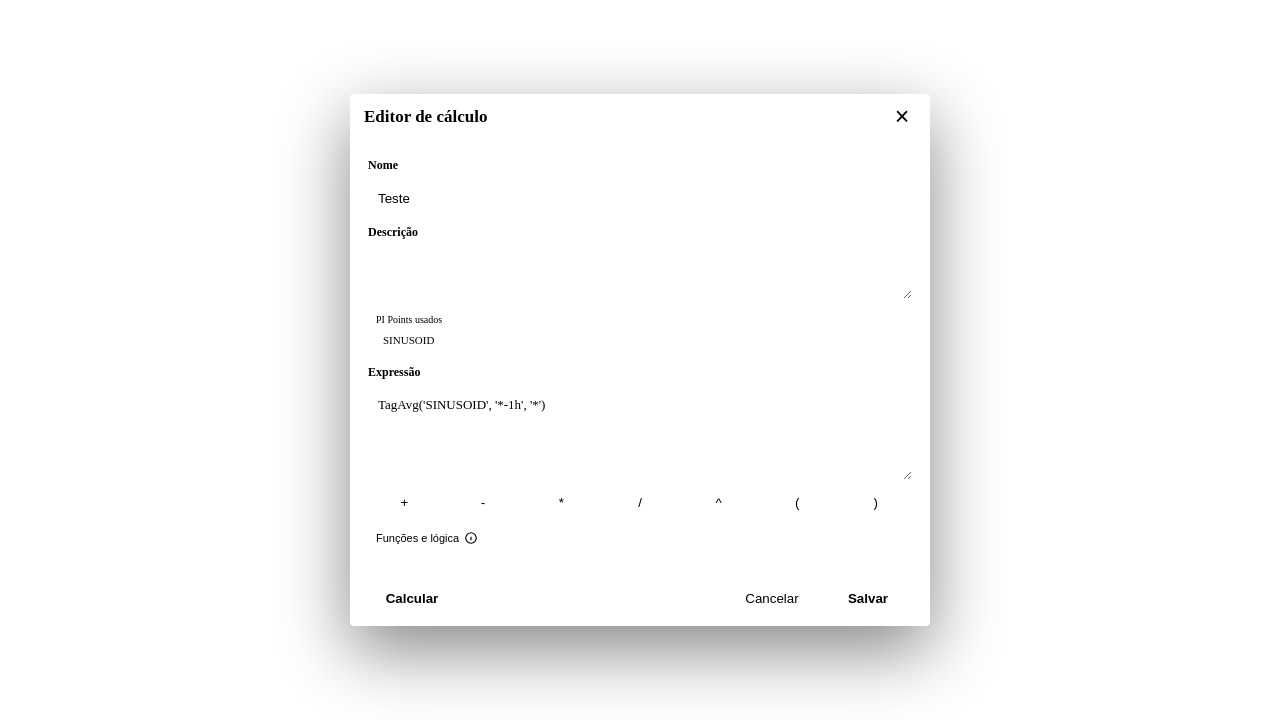
Scenario: calcula uma expressão PI no controller com um clique, sem carregar valores locais
Click the button with test id "calculation-editor-execute".
click(412, 598)  # box [368, 582, 456, 614]
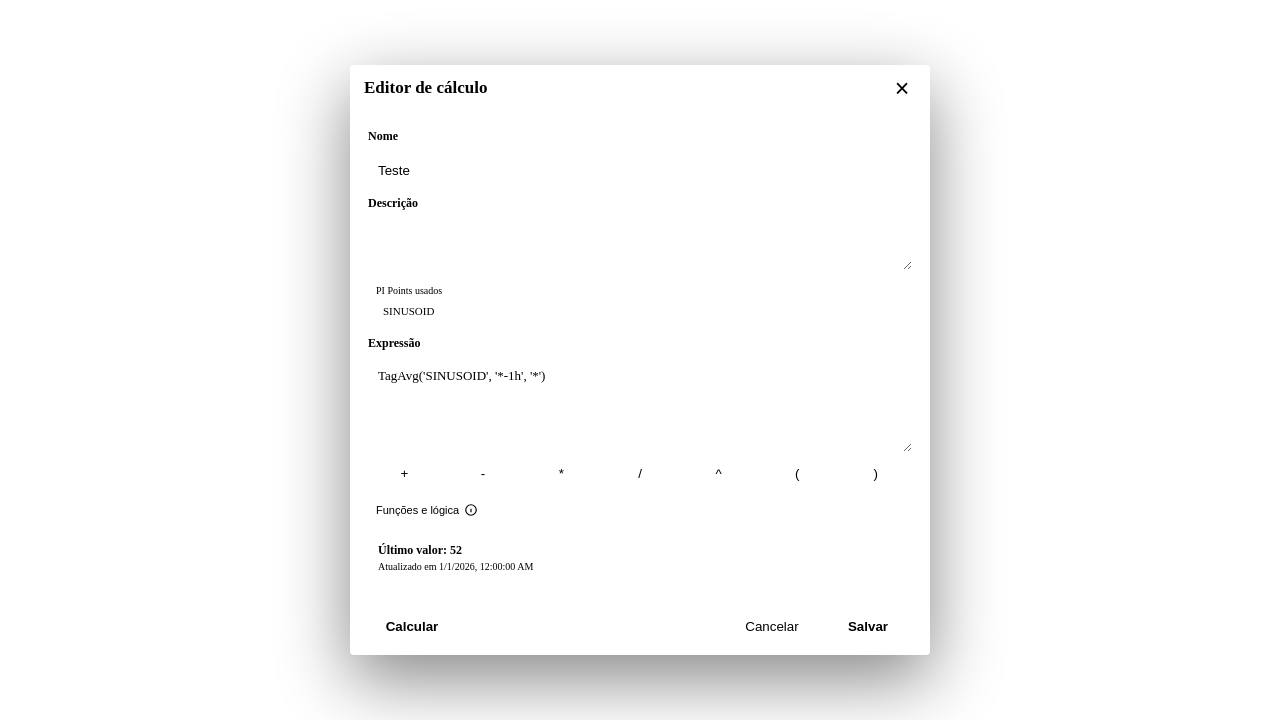
Expected: the element with test id "calculation-editor-result" shows "Último valor: 52", [378, 543, 533, 572]
